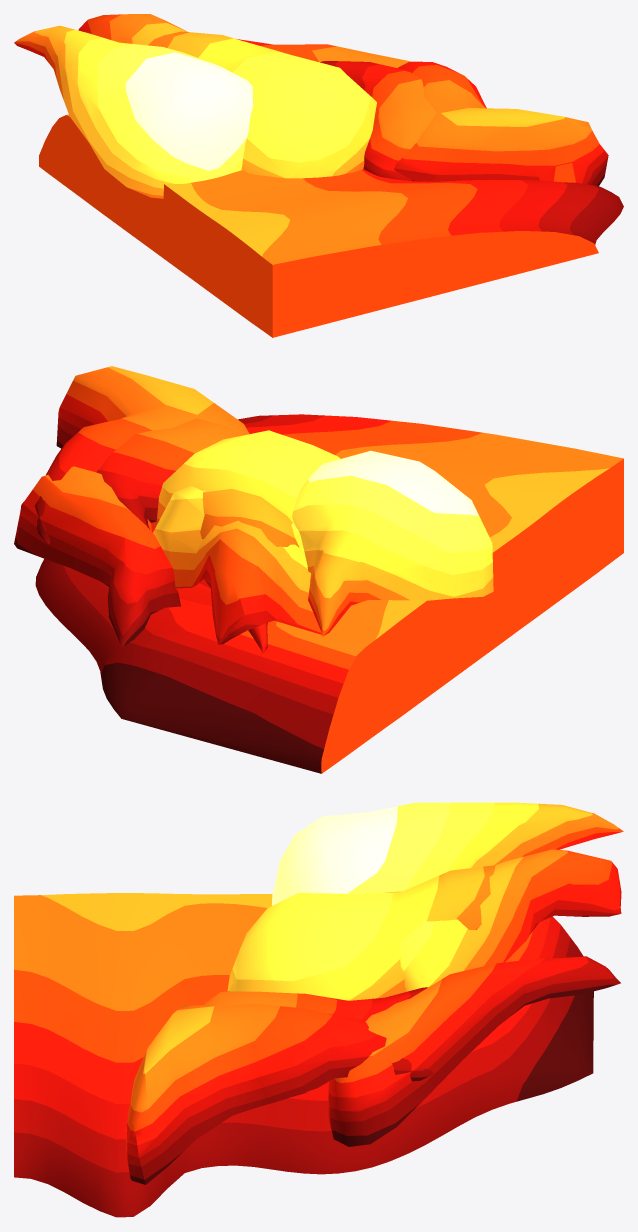
File: fire_tail_r.glb
The picture shows the model from 3 angles, top to bottom: view 1: azimuth 30°, elevation 25°; view 2: azimuth 150°, elevation 25°; view 3: azimuth 270°, elevation 25°; orthographic projection. The views are drawn at different scales.
Visible parts, largest first — view 1: fire_tail_r; view 2: fire_tail_r; view 3: fire_tail_r.
Boxes of the visible parts, <box> form: fire_tail_r: <box>14,14,623,337</box>; fire_tail_r: <box>14,366,623,773</box>; fire_tail_r: <box>14,802,623,1217</box>.
Bounding box in the file's own units: 23.6 × 8.58 × 23.8.
